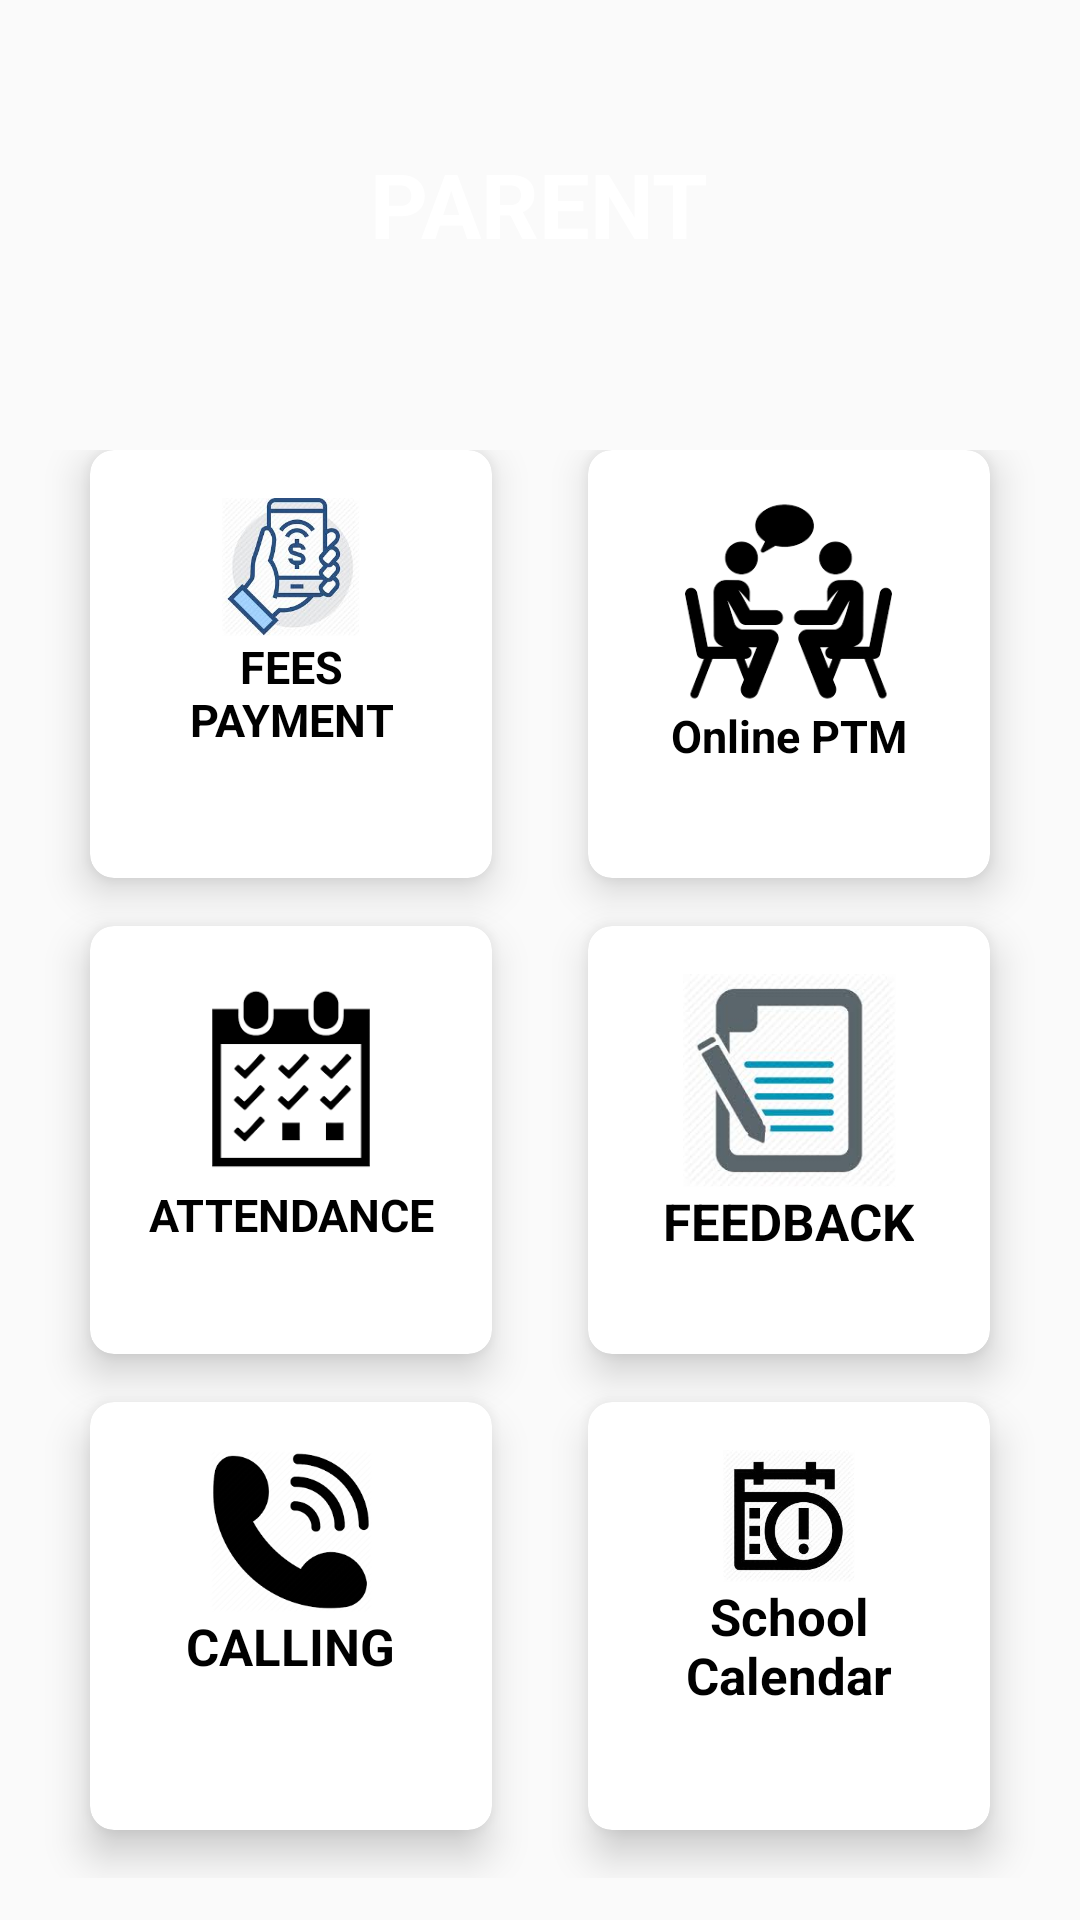

Icon click points for this 1080w x 1920h phone screenshot, format (x,y):
chatting: (788,601)
remainder: (788,1516)
